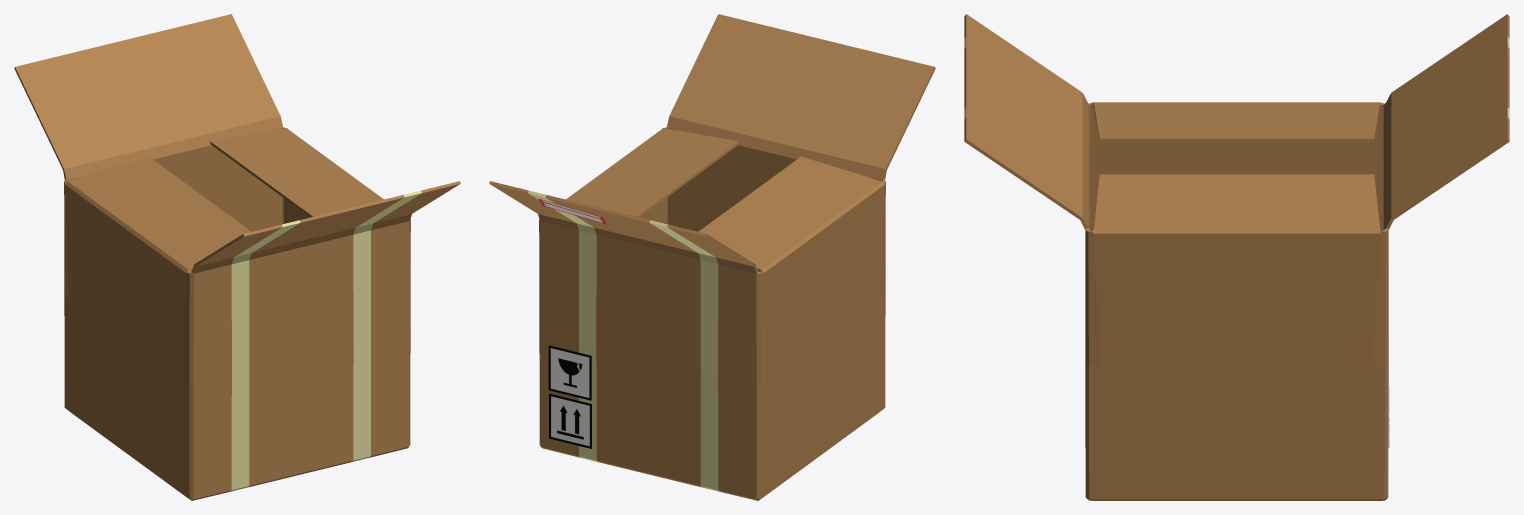
File: Cardboard.013.gltf
3 views of the same model, side by side, from view 1: azimuth 30°, elevation 25°; view 2: azimuth 150°, elevation 25°; view 3: azimuth 270°, elevation 25° (orthographic). The views are drawn at different scales.
Visible parts, largest first — view 1: Cardboard.013; view 2: Cardboard.013, sign4.005, sign2.006; view 3: Cardboard.013.
Boxes of the visible parts, x1,y1,x2,y2 form: Cardboard.013: (14, 14, 460, 500); Cardboard.013: (489, 14, 935, 500); sign4.005: (548, 345, 591, 400); sign2.006: (549, 393, 591, 448); Cardboard.013: (964, 14, 1509, 500).
Size of the model in its own units: 0.9037 by 1.18 by 1.61.
5 materials, 3 textured.
